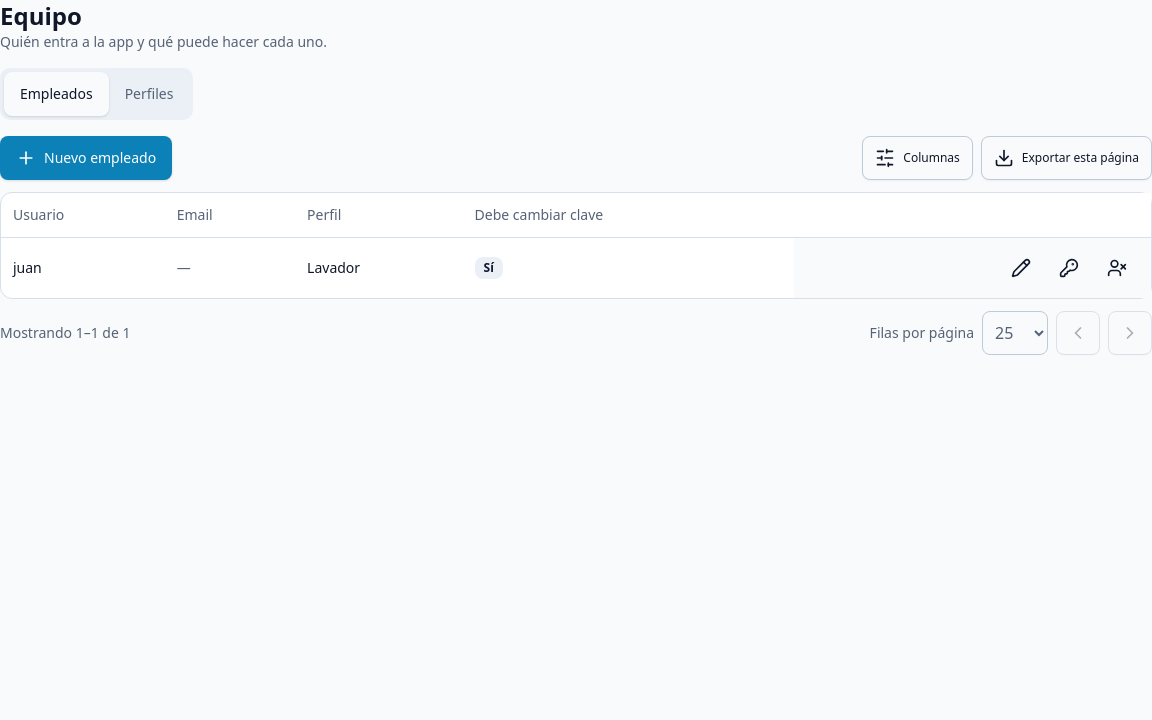
it: Empleados › reset de clave: el error del servidor se muestra
The width and height of the screenshot is (1152, 720).
Click the button named "Resetear la clave de juan" at (1069, 268), box x1=1047 y1=246 x2=1091 y2=290
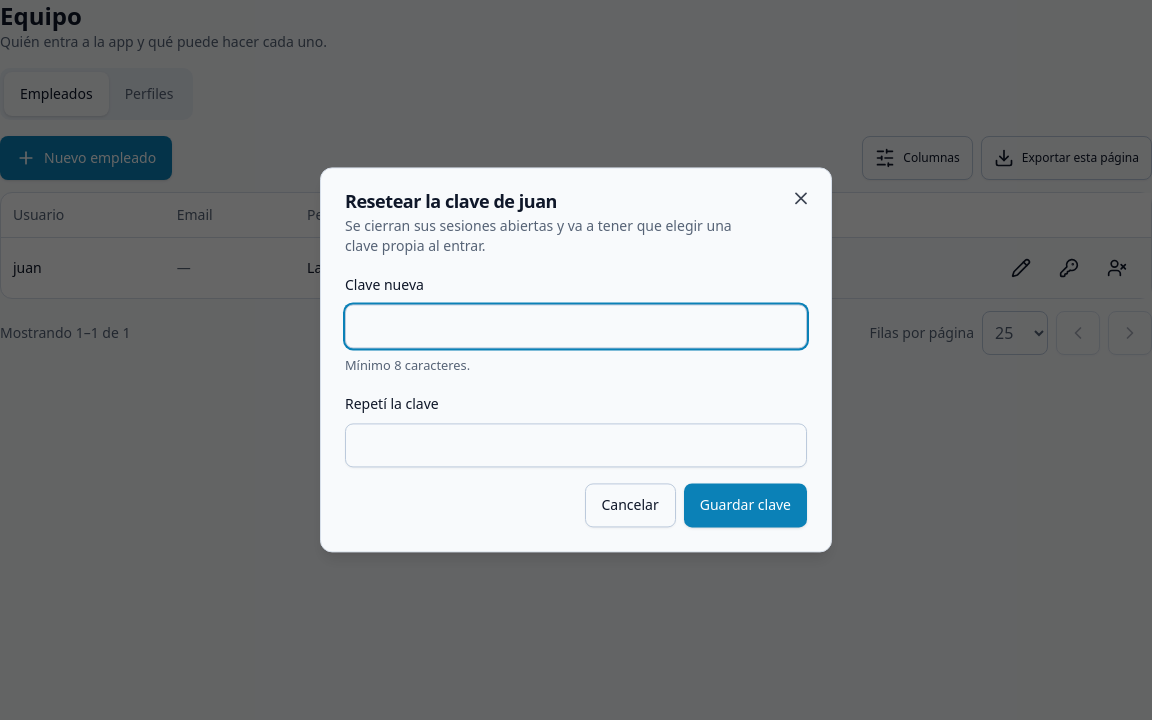
Type "otra-clave-1" into the password field labelled "Clave nueva" at (576, 326), box x1=345 y1=304 x2=807 y2=348
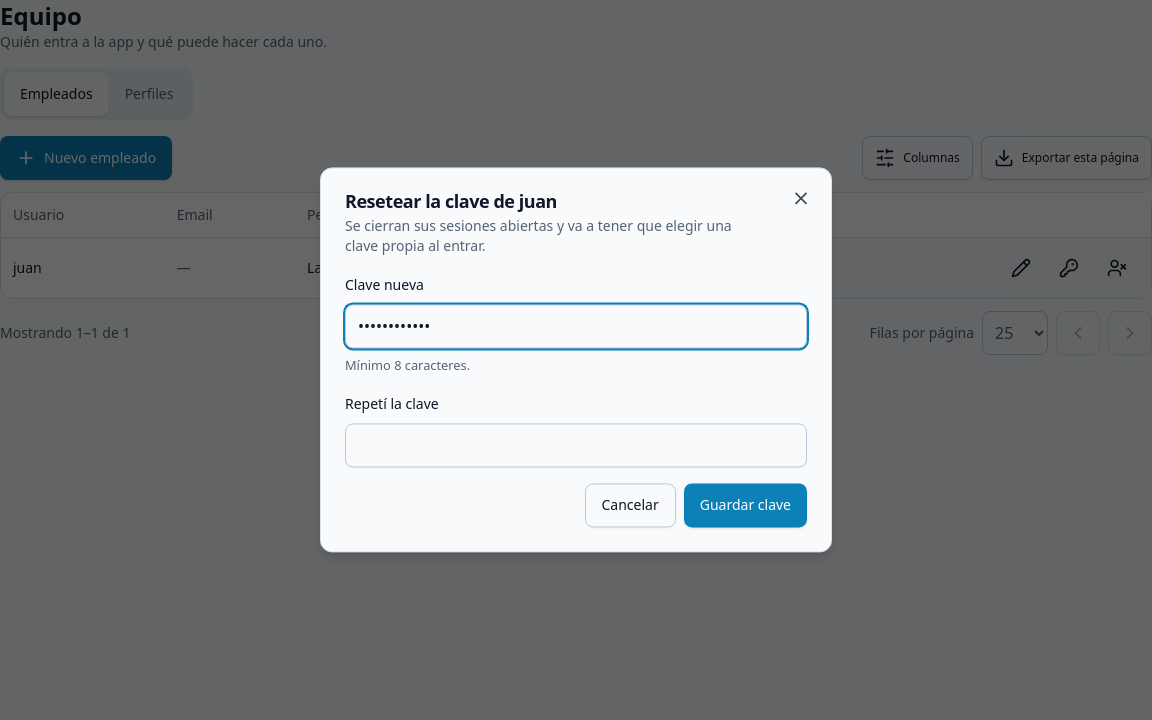
Type "otra-clave-1" into the password field labelled "Repetí la clave" at (576, 446), box x1=345 y1=424 x2=807 y2=468
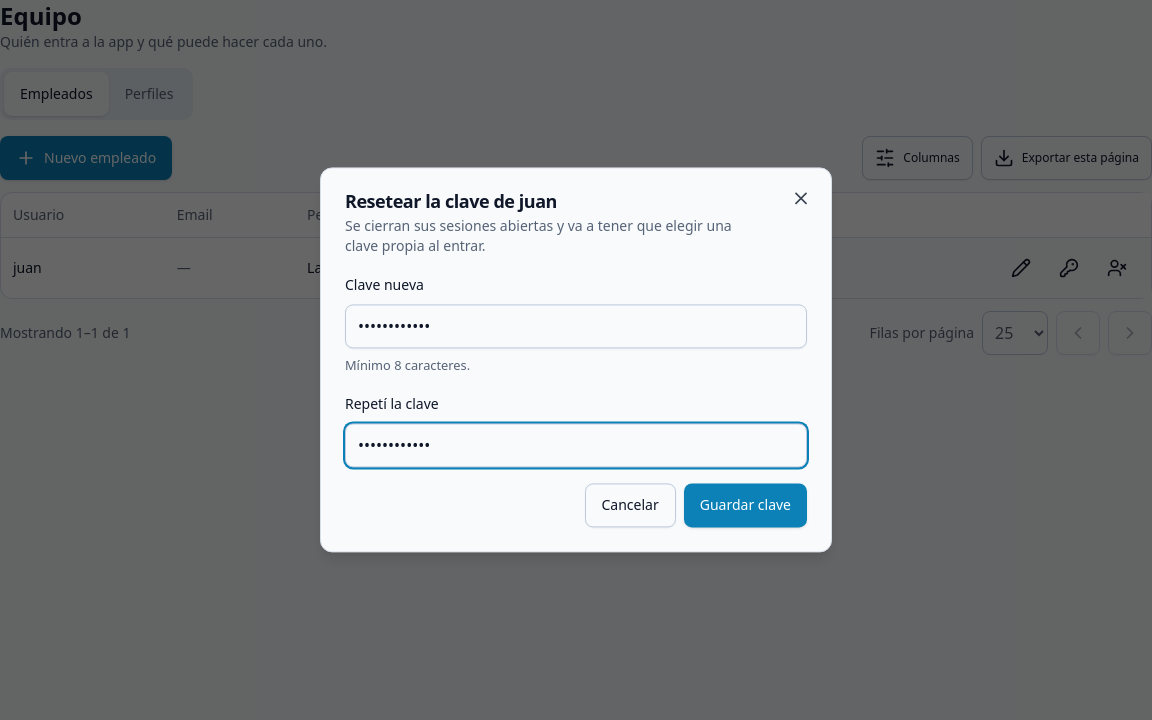
Click the button "Guardar clave" at (745, 506), box x1=684 y1=484 x2=807 y2=528
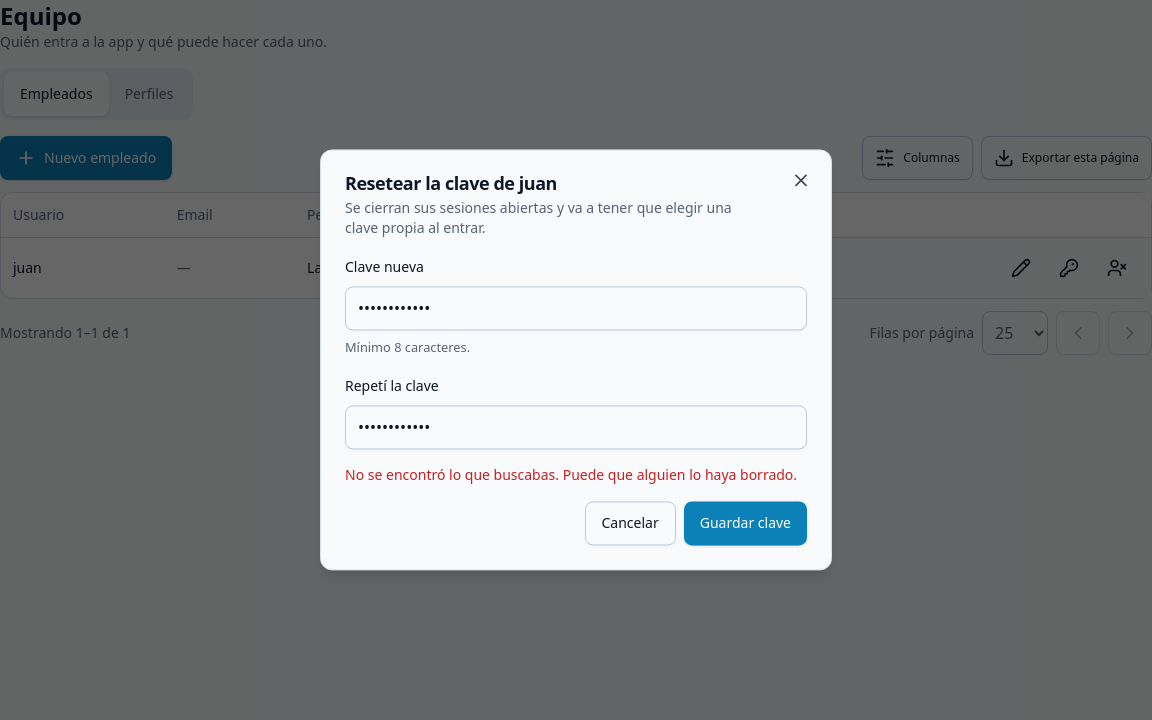
Expected: the message shows "No se encontró", x1=345 y1=466 x2=797 y2=485
